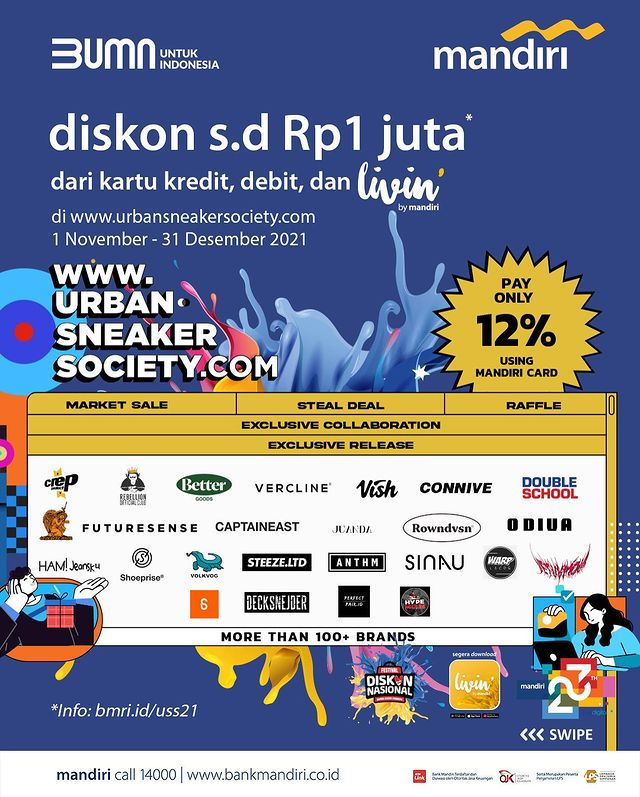ojk: (498, 767, 536, 787)
